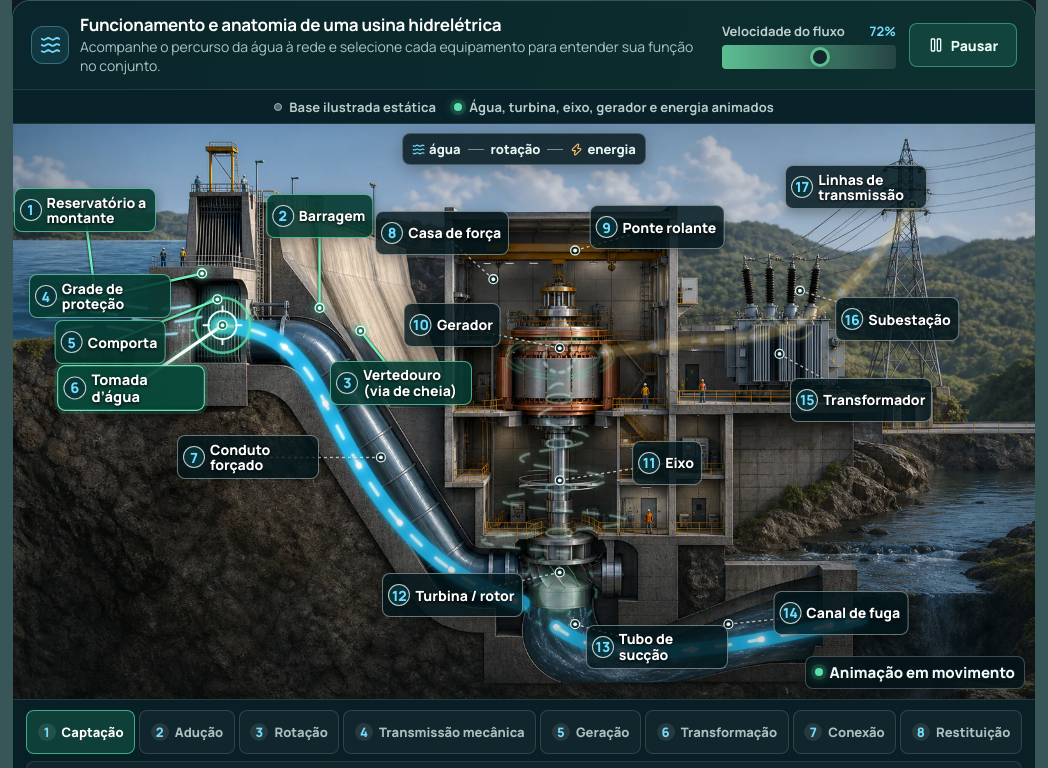
Scenario: corte animado da usina hidrelétrica › permite localizar um equipamento e pausa o percurso guiado
Click the button with class "hec-callout" showing "15 Transformador" at (861, 400), box [790,378,932,422]
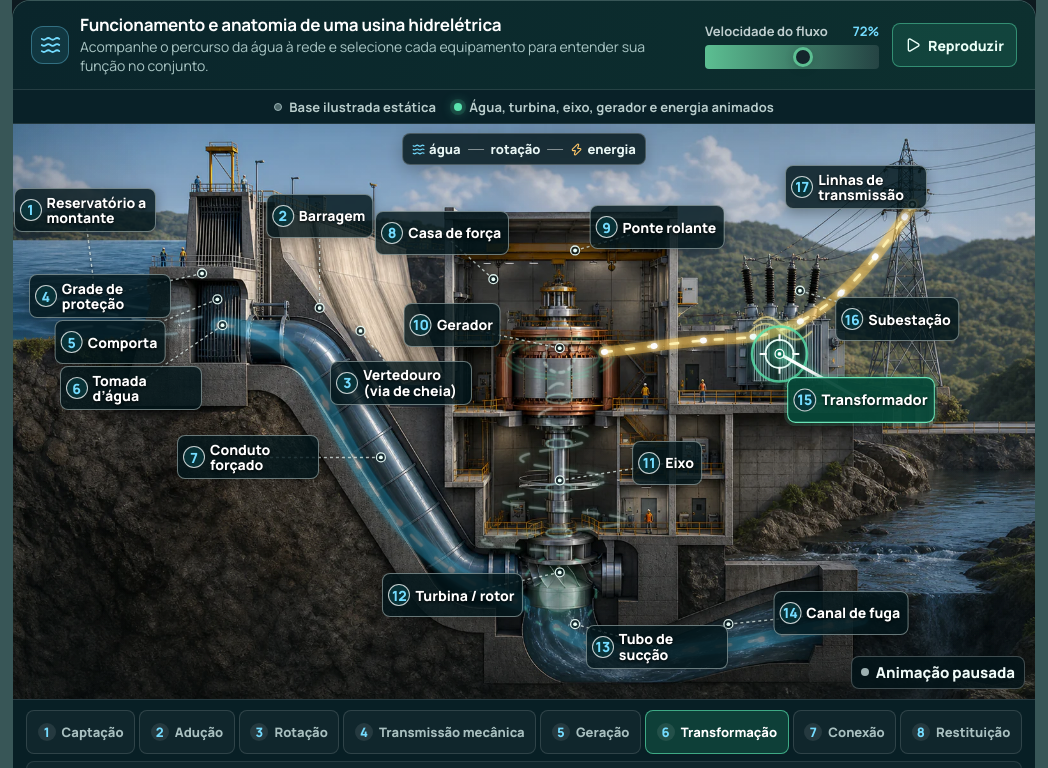
Now the button with class "hec-play" reads "Reproduzir", box [892,23,1017,67]
